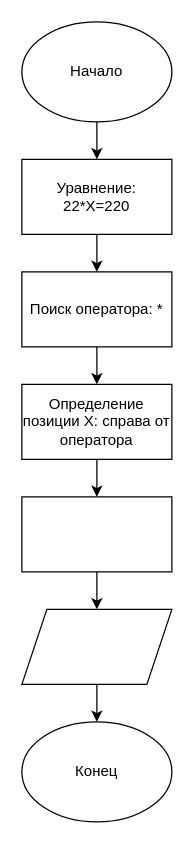
Some shapes in this 194 by 844 pixel diagram are drawn without their labels. The centre of each missing label's shape, as x and y in pixels:
"Вывод: Х=10" belongs at point 96,646.
"Вычисление: Х=220/22" belongs at point 96,534.
